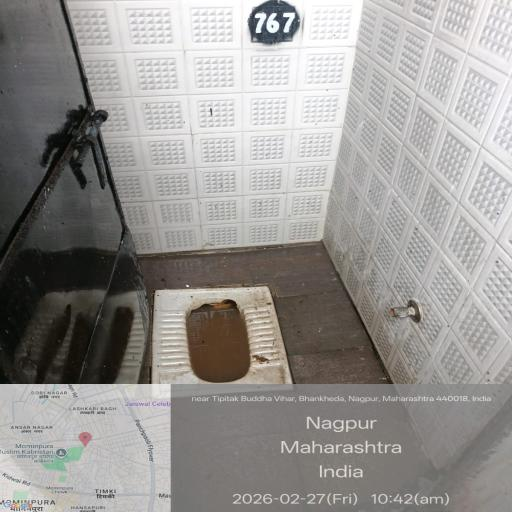clean_floor: (56, 0, 502, 228)
dirty_indian: (139, 288, 295, 386)
partial_dirty_floor: (276, 286, 413, 389), (143, 246, 352, 286)
